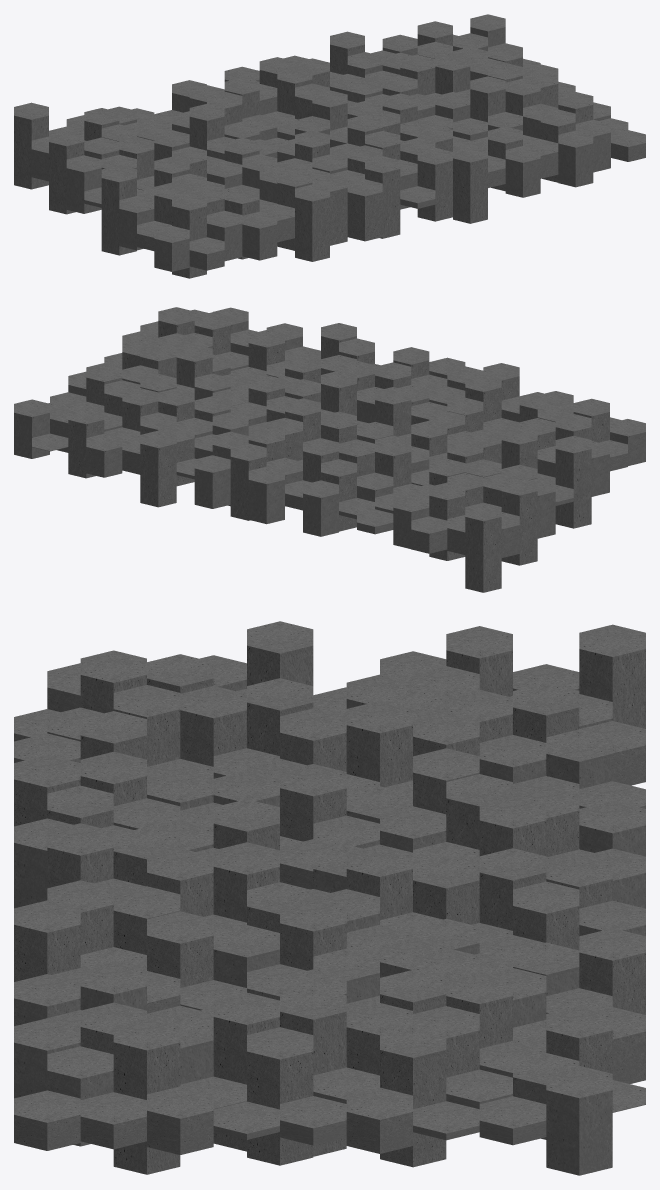
The model's file is HexBackground.fbx.
3 renders of one model, top to bottom at view 1: azimuth 30°, elevation 25°; view 2: azimuth 150°, elevation 25°; view 3: azimuth 270°, elevation 25°, orthographic. The views are drawn at different scales.
Visible parts, largest first — view 1: Plane.008, Plane.005, Plane.066, Plane.156, Plane.017, Plane.006, Plane.120, Plane.010, Plane.016, Plane.009, Plane.102, Plane.021 (+86 smaller); view 2: Plane.156, Plane.066, Plane.162, Plane.120, Plane.160, Plane.159, Plane.161, Plane.151, Plane.154, Plane.155, Plane.060, Plane.139 (+87 smaller); view 3: Plane.155, Plane.038, Plane.074, Plane.110, Plane.156, Plane.094, Plane.008, Plane.162, Plane.049, Plane.082, Plane.064, Plane.044 (+105 smaller).
Boxes of the visible parts, x1,y1,x2,y2 form: Plane.008: (453,145,487,223); Plane.005: (295,184,329,261); Plane.066: (101,165,136,255); Plane.156: (14,102,48,189); Plane.017: (417,147,452,221); Plane.006: (347,179,382,241); Plane.120: (49,129,84,214); Plane.010: (558,130,593,187); Plane.016: (365,156,400,238); Plane.009: (505,146,540,197); Plane.102: (66,155,101,213); Plane.021: (172,193,206,278); Plane.156: (465,503,501,592); Plane.066: (555,435,591,528); Plane.162: (140,430,176,507); Plane.120: (501,478,537,565); Plane.160: (248,466,284,524); Plane.159: (303,480,338,536); Plane.161: (194,455,230,508); Plane.151: (230,443,266,520); Plane.154: (68,406,104,478); Plane.155: (14,399,49,458); Plane.060: (375,387,411,436); Plane.139: (429,482,465,560); Plane.155: (546,1066,612,1175); Plane.038: (113,1018,180,1174); Plane.074: (247,1027,313,1165); Plane.110: (380,1025,446,1167); Plane.156: (579,624,645,728); Plane.094: (346,701,412,787); Plane.008: (14,900,80,981); Plane.162: (579,928,645,1014); Plane.049: (180,686,246,766); Plane.082: (280,987,346,1156); Plane.064: (213,992,279,1151); Plane.044: (147,911,213,987).
Size of the model in its own units: 2750 by 399 by 1645.
